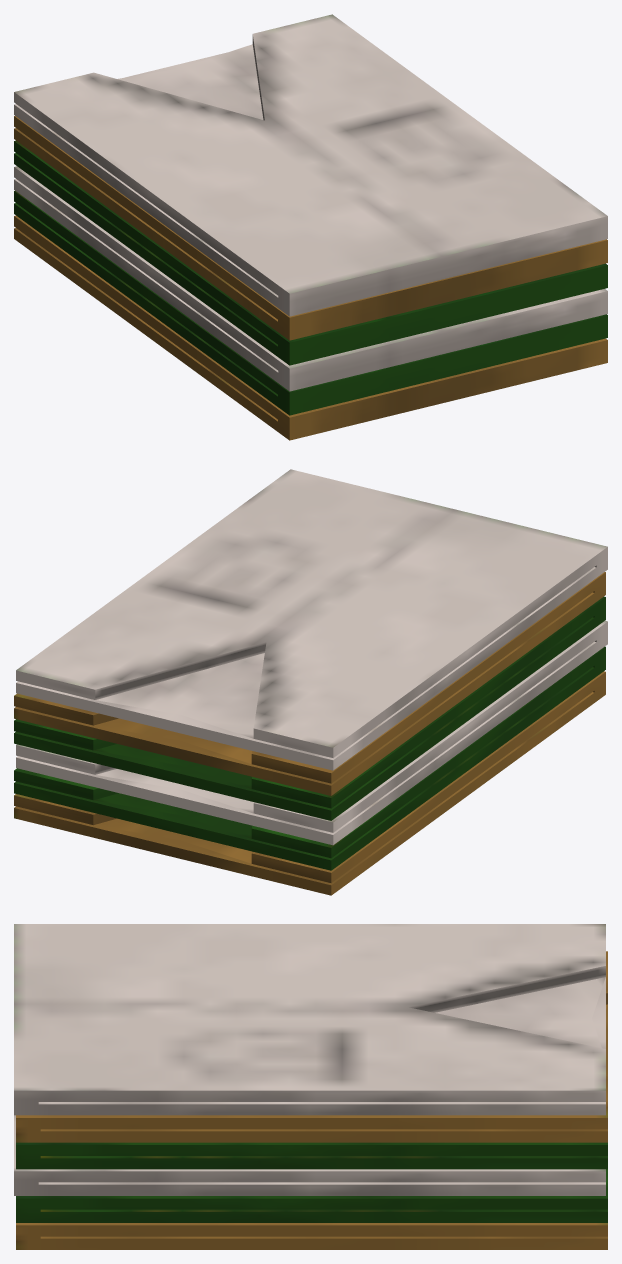
File: Clothes(Stacked).obj
3 renders of one model, top to bottom at view 1: azimuth 30°, elevation 25°; view 2: azimuth 150°, elevation 25°; view 3: azimuth 270°, elevation 25°, orthographic. The views are drawn at different scales.
Visible parts, largest first — view 1: Clothes_(Staked)_Clothes_01, Clothes_(Staked)_Material.001, Clothes_(Staked)_Material.002; view 2: Clothes_(Staked)_Clothes_01, Clothes_(Staked)_Material.001, Clothes_(Staked)_Material.002; view 3: Clothes_(Staked)_Clothes_01, Clothes_(Staked)_Material.002, Clothes_(Staked)_Material.001.
Part boxes in pixels (left/top/right/bottom): Clothes_(Staked)_Clothes_01: left=14, top=14, right=607, bottom=391; Clothes_(Staked)_Material.001: left=14, top=140, right=607, bottom=415; Clothes_(Staked)_Material.002: left=14, top=116, right=607, bottom=440; Clothes_(Staked)_Clothes_01: left=16, top=469, right=607, bottom=845; Clothes_(Staked)_Material.001: left=14, top=596, right=605, bottom=870; Clothes_(Staked)_Material.002: left=14, top=572, right=605, bottom=895; Clothes_(Staked)_Clothes_01: left=14, top=924, right=605, bottom=1195; Clothes_(Staked)_Material.002: left=16, top=951, right=607, bottom=1249; Clothes_(Staked)_Material.001: left=16, top=1142, right=607, bottom=1222.
Size of the model in its own units: 4.04 by 1.79 by 6.07.
